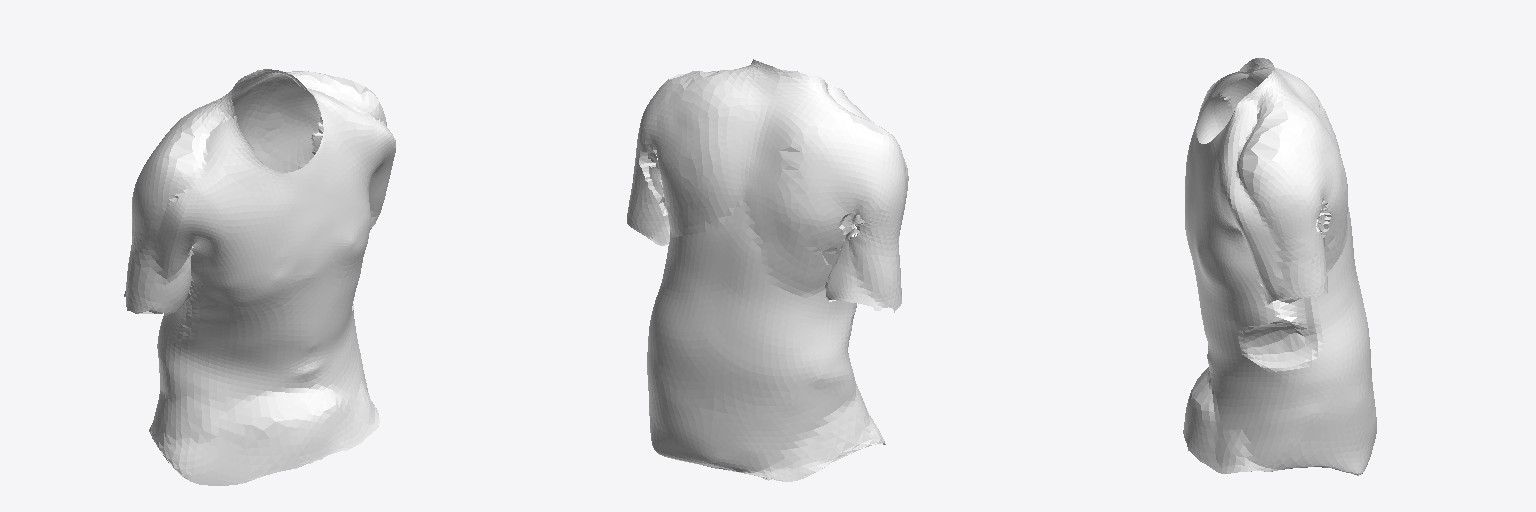
The model's file is upper_with_material.obj.
3 renders of one model, left to right at view 1: azimuth 30°, elevation 25°; view 2: azimuth 150°, elevation 25°; view 3: azimuth 270°, elevation 25°, orthographic.
Size of the model in its own units: 0.4922 by 0.6905 by 0.322.